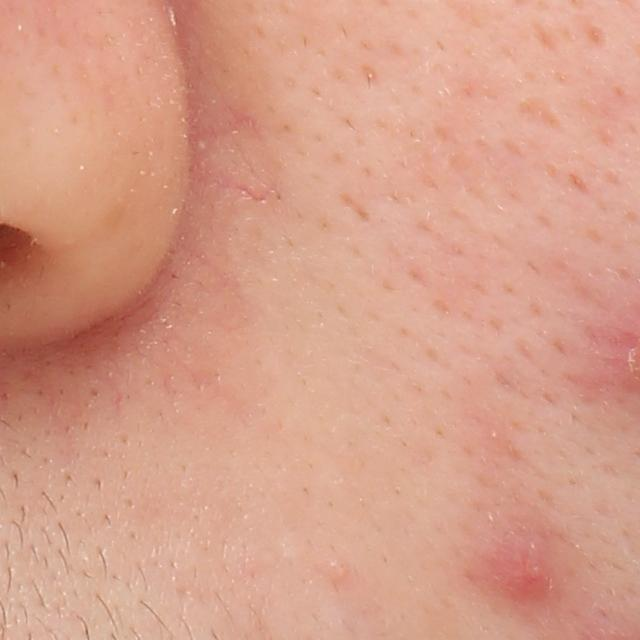atrophic_scar: (516, 91, 567, 132)
papule: (477, 520, 583, 605)
